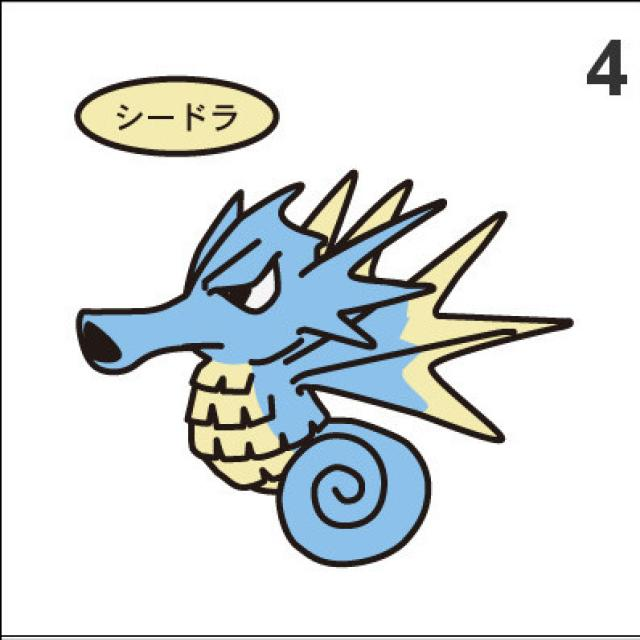Seadra: (79, 179, 458, 566)
